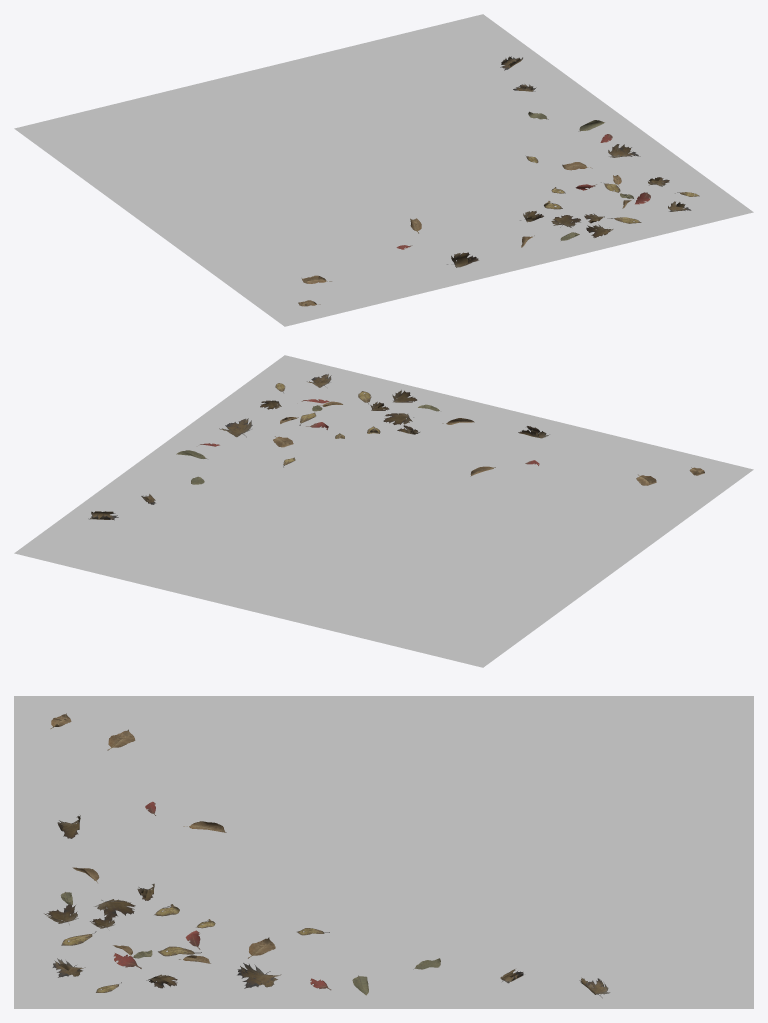
Rendered from Leaves19.FBX.
3 views of the same model, one above another, from view 1: azimuth 30°, elevation 25°; view 2: azimuth 150°, elevation 25°; view 3: azimuth 270°, elevation 25° (orthographic). The views are drawn at different scales.
Visible parts, largest first — view 1: Leaves19_Decal, Leaves19; view 2: Leaves19_Decal, Leaves19; view 3: Leaves19_Decal, Leaves19.
Boxes of the visible parts, left/top/right/bottom form: Leaves19_Decal: left=14, top=14, right=753, bottom=326; Leaves19: left=298, top=56, right=699, bottom=306; Leaves19_Decal: left=14, top=355, right=753, bottom=667; Leaves19: left=88, top=374, right=704, bottom=520; Leaves19_Decal: left=14, top=696, right=753, bottom=1008; Leaves19: left=44, top=713, right=610, bottom=998.
Size of the model in its own units: 2.2 by 0.0483 by 2.2.
